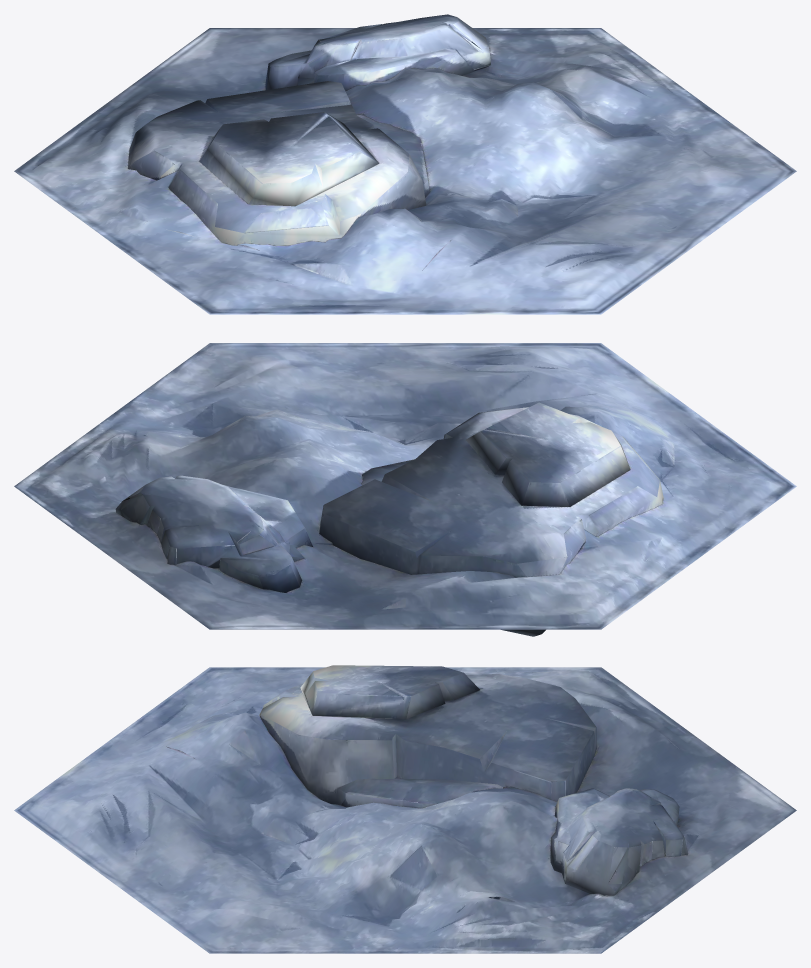
The model's file is snow_2_0_baked.glb.
3 renders of one model, top to bottom at view 1: azimuth 30°, elevation 25°; view 2: azimuth 150°, elevation 25°; view 3: azimuth 270°, elevation 25°, orthographic.
Visible parts, largest first — view 1: snow_2_0.001; view 2: snow_2_0.001; view 3: snow_2_0.001.
Boxes of the visible parts, x1,y1,x2,y2 form: snow_2_0.001: [14, 14, 796, 314]; snow_2_0.001: [14, 343, 796, 636]; snow_2_0.001: [14, 665, 796, 953].
Bounding box in the file's own units: 1.73 × 0.3637 × 2.
Materials: 1 (1 with a texture image).
